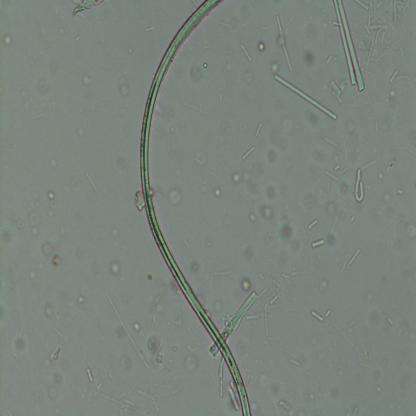Anthropogenic: (138, 1, 250, 413)
Background material: (254, 363, 284, 399), (28, 61, 53, 100), (342, 118, 361, 165), (279, 219, 302, 252), (185, 144, 211, 168), (369, 306, 395, 330), (19, 92, 40, 121), (149, 337, 166, 372), (45, 364, 62, 398), (70, 0, 104, 17), (275, 264, 297, 287), (40, 242, 59, 266), (354, 345, 374, 365), (186, 258, 202, 281), (168, 186, 184, 209), (337, 175, 352, 199), (27, 210, 40, 237), (190, 63, 207, 83), (262, 181, 277, 203), (304, 110, 321, 129), (368, 206, 384, 226), (133, 190, 146, 213), (384, 89, 398, 109), (119, 78, 131, 101), (276, 398, 293, 414), (302, 47, 316, 66), (265, 148, 279, 167), (326, 230, 339, 250), (258, 204, 274, 220), (241, 246, 257, 262), (185, 353, 197, 372), (50, 347, 61, 367), (15, 336, 27, 354), (110, 259, 122, 277), (326, 202, 337, 220), (383, 188, 393, 206), (404, 222, 416, 237), (240, 278, 252, 292), (48, 158, 60, 172), (82, 74, 94, 86), (232, 170, 242, 184), (44, 305, 54, 319), (4, 32, 14, 46), (212, 186, 222, 200), (319, 278, 328, 292), (248, 211, 257, 223), (77, 126, 86, 137), (257, 41, 265, 53), (77, 295, 85, 306), (46, 189, 53, 201), (377, 171, 384, 182), (134, 322, 140, 334), (147, 272, 153, 281), (396, 188, 403, 195)
Glass filter fibre: (104, 293, 150, 370), (332, 1, 364, 92), (275, 76, 337, 122), (364, 1, 388, 70), (221, 292, 257, 338), (91, 383, 136, 412), (275, 16, 293, 72), (378, 147, 416, 168), (226, 380, 240, 412), (353, 167, 365, 202), (84, 173, 100, 195), (329, 80, 341, 104), (219, 359, 226, 398), (213, 267, 232, 280), (240, 43, 252, 62), (348, 248, 360, 266), (324, 169, 338, 182), (310, 238, 326, 249), (268, 291, 279, 307), (311, 310, 324, 323), (243, 146, 255, 160), (254, 122, 263, 138), (85, 368, 94, 383), (307, 219, 319, 230), (290, 356, 301, 367), (326, 138, 338, 148), (390, 69, 398, 83), (394, 75, 411, 81), (325, 54, 332, 65), (325, 309, 332, 318), (350, 214, 356, 224), (334, 162, 340, 172), (144, 26, 154, 32)
